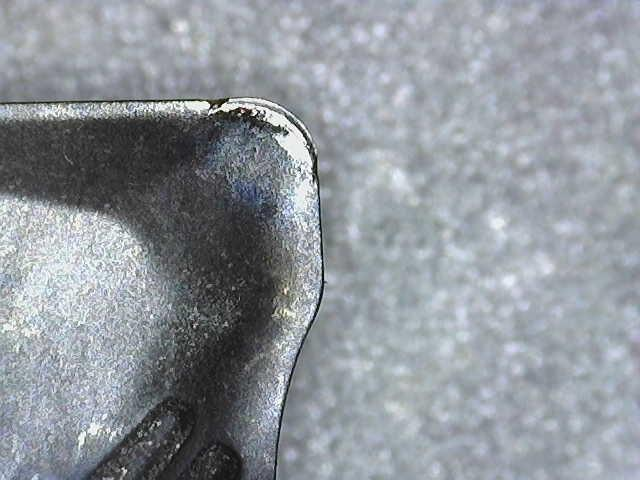normal: (264, 177, 323, 475), (1, 101, 209, 122)
wear: (211, 100, 318, 185)
